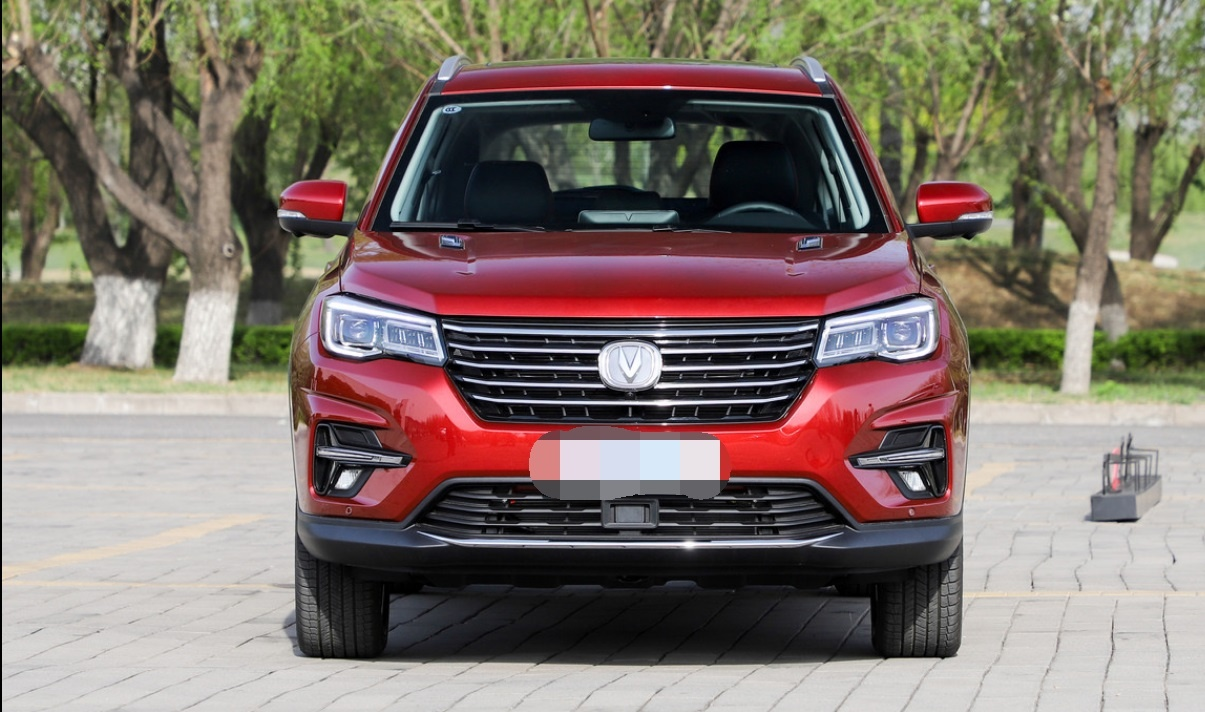SUV: (274, 79, 997, 661)
